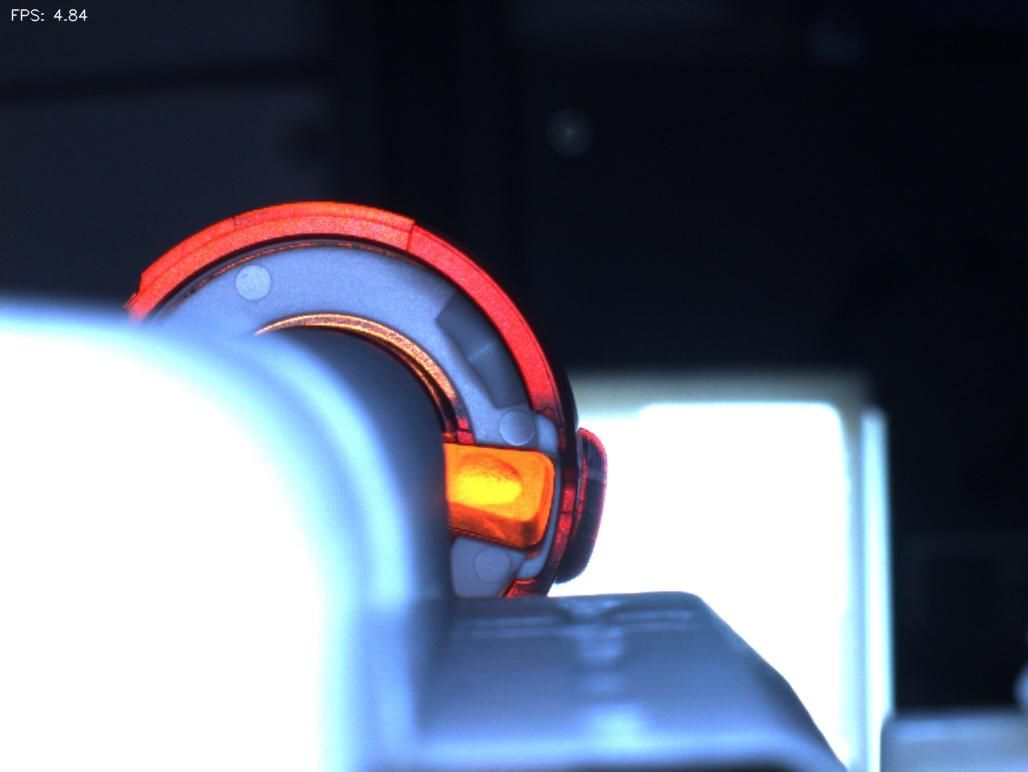Retassure: (441, 446, 538, 514)
